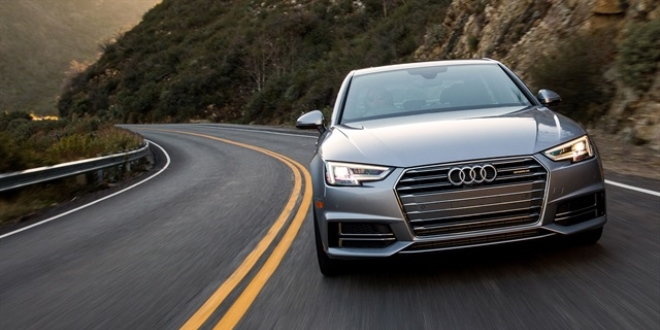audi: (442, 164, 500, 187)
